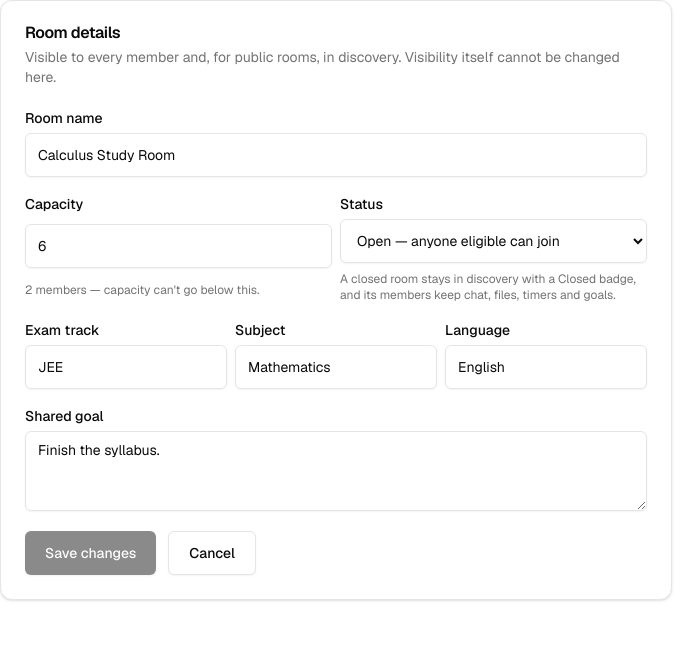
RoomSettingsForm › tells the owner when the room is already gone
The width and height of the screenshot is (689, 658).
Replace the text in the field labelled "Room name" with "New" at (336,155), box [25,133,647,177]
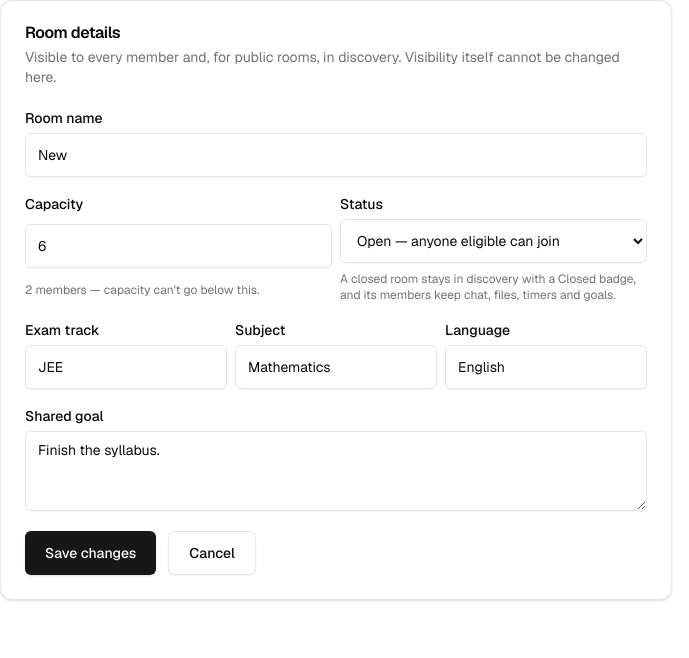
Click the button "Save changes".
click(91, 553)  # box [25,531,156,575]
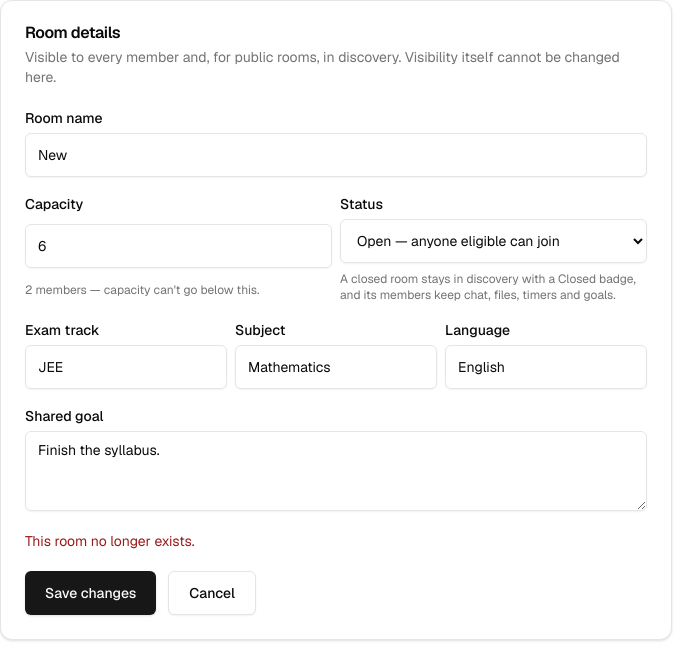
Expected: the text "This room no longer exists." is shown, [25,532,194,550]
